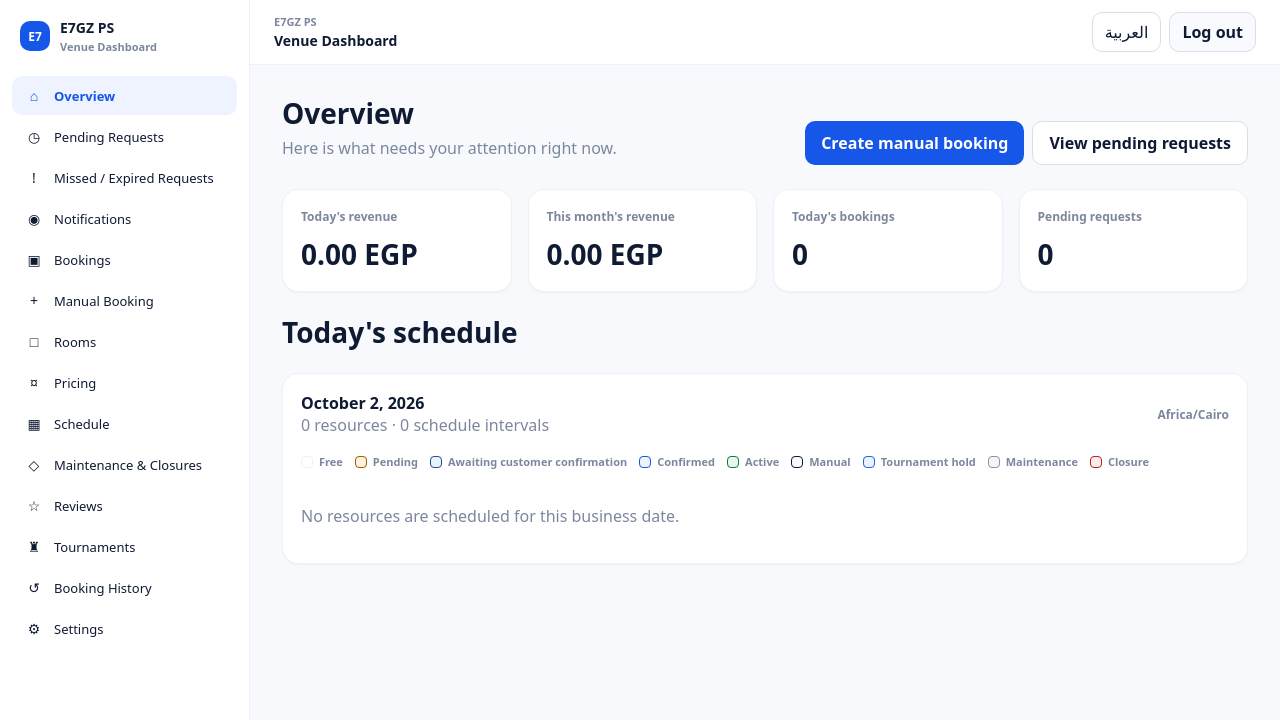
Venue Dashboard shell › restores and ends the HttpOnly-cookie session without browser token storage
The image size is (1280, 720).
Step 1. Click the button "Log out" → (1213, 32), box [1169,12,1256,52]
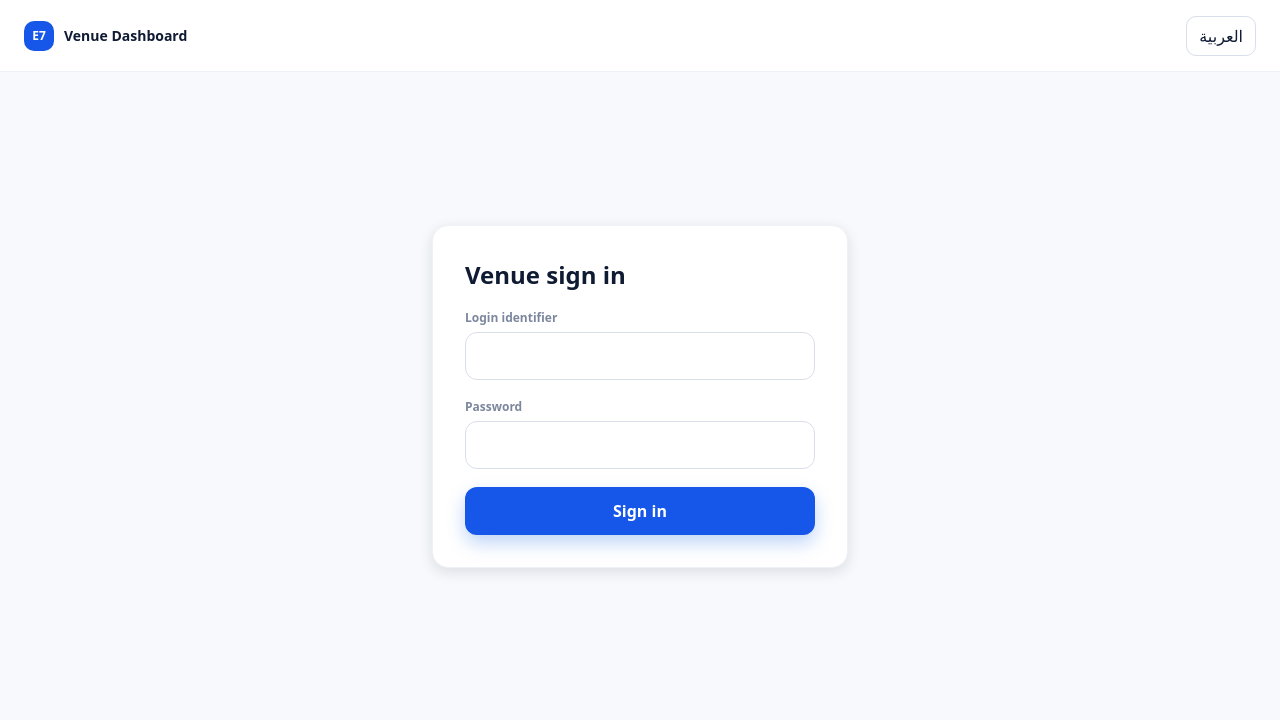
Expected: the heading "Venue sign in" is shown, [465,258,626,290]
